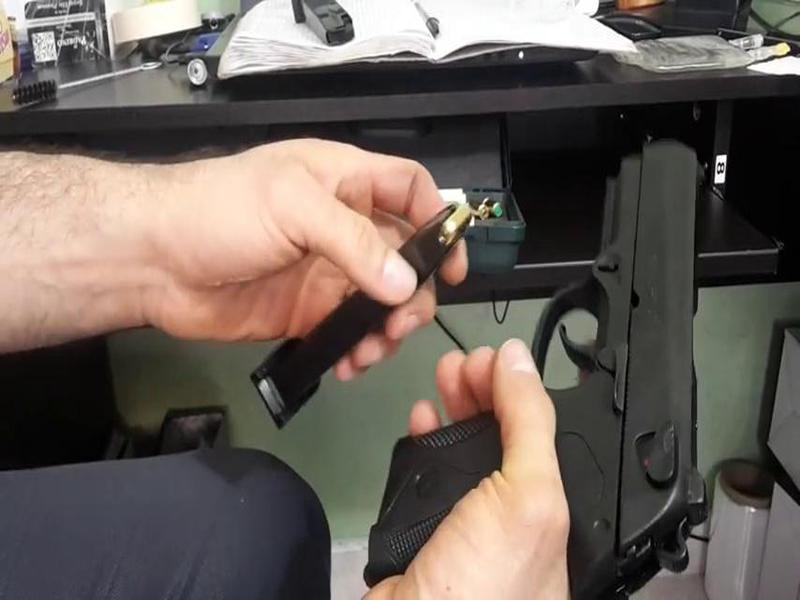Pistola: (387, 114, 699, 599)
